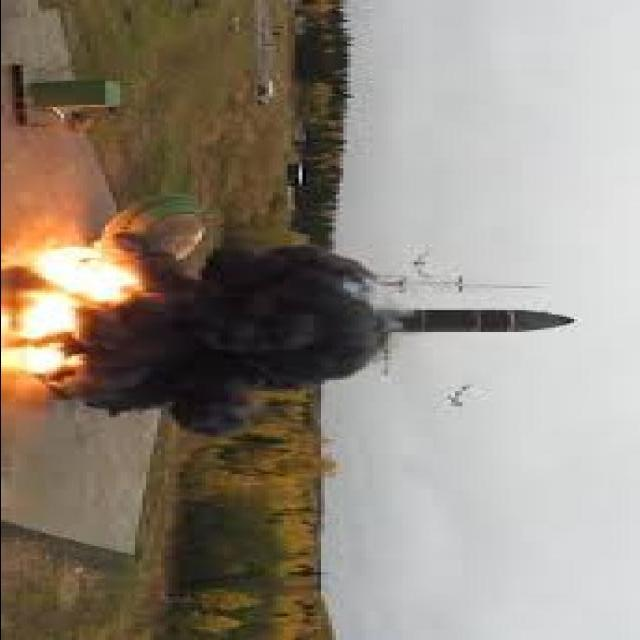missile: (369, 303, 590, 345)
